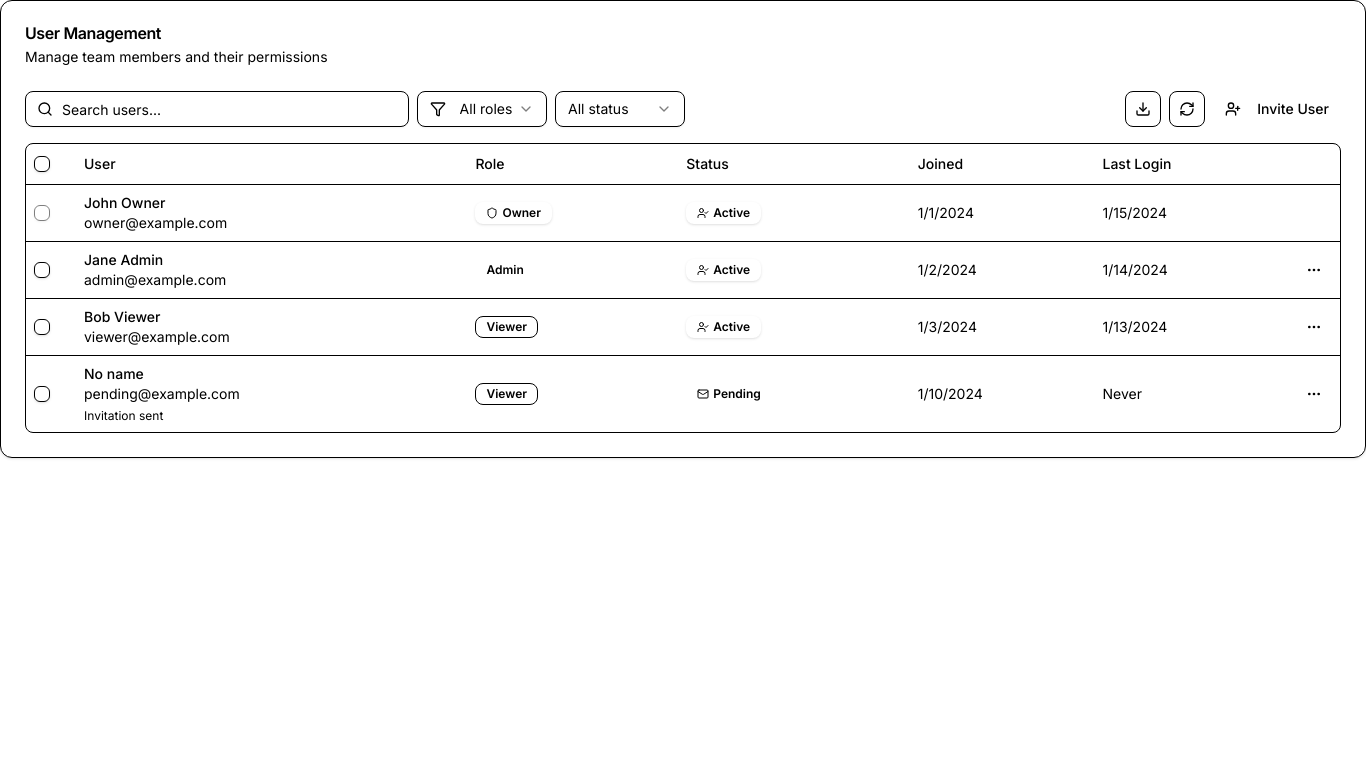
Scenario: UserManagement › User Invitation › should open invite modal when clicking invite button
The image size is (1366, 768).
Click the button "Invite User".
click(1277, 109)  # box top-left (1213, 91), bottom-right (1341, 127)
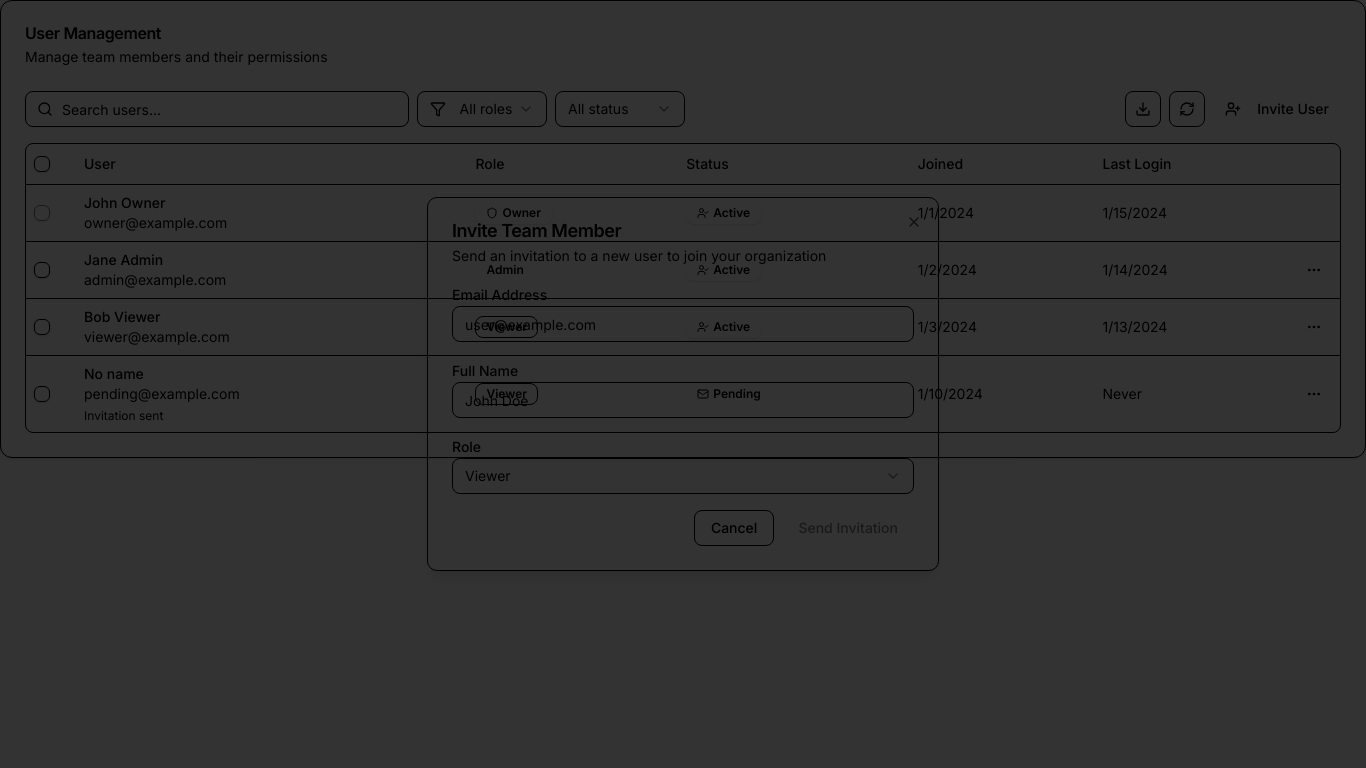
Now the dialog is shown, box top-left (427, 197), bottom-right (939, 571)
Now the heading "Invite Team Member" is shown, box top-left (452, 220), bottom-right (621, 241)
